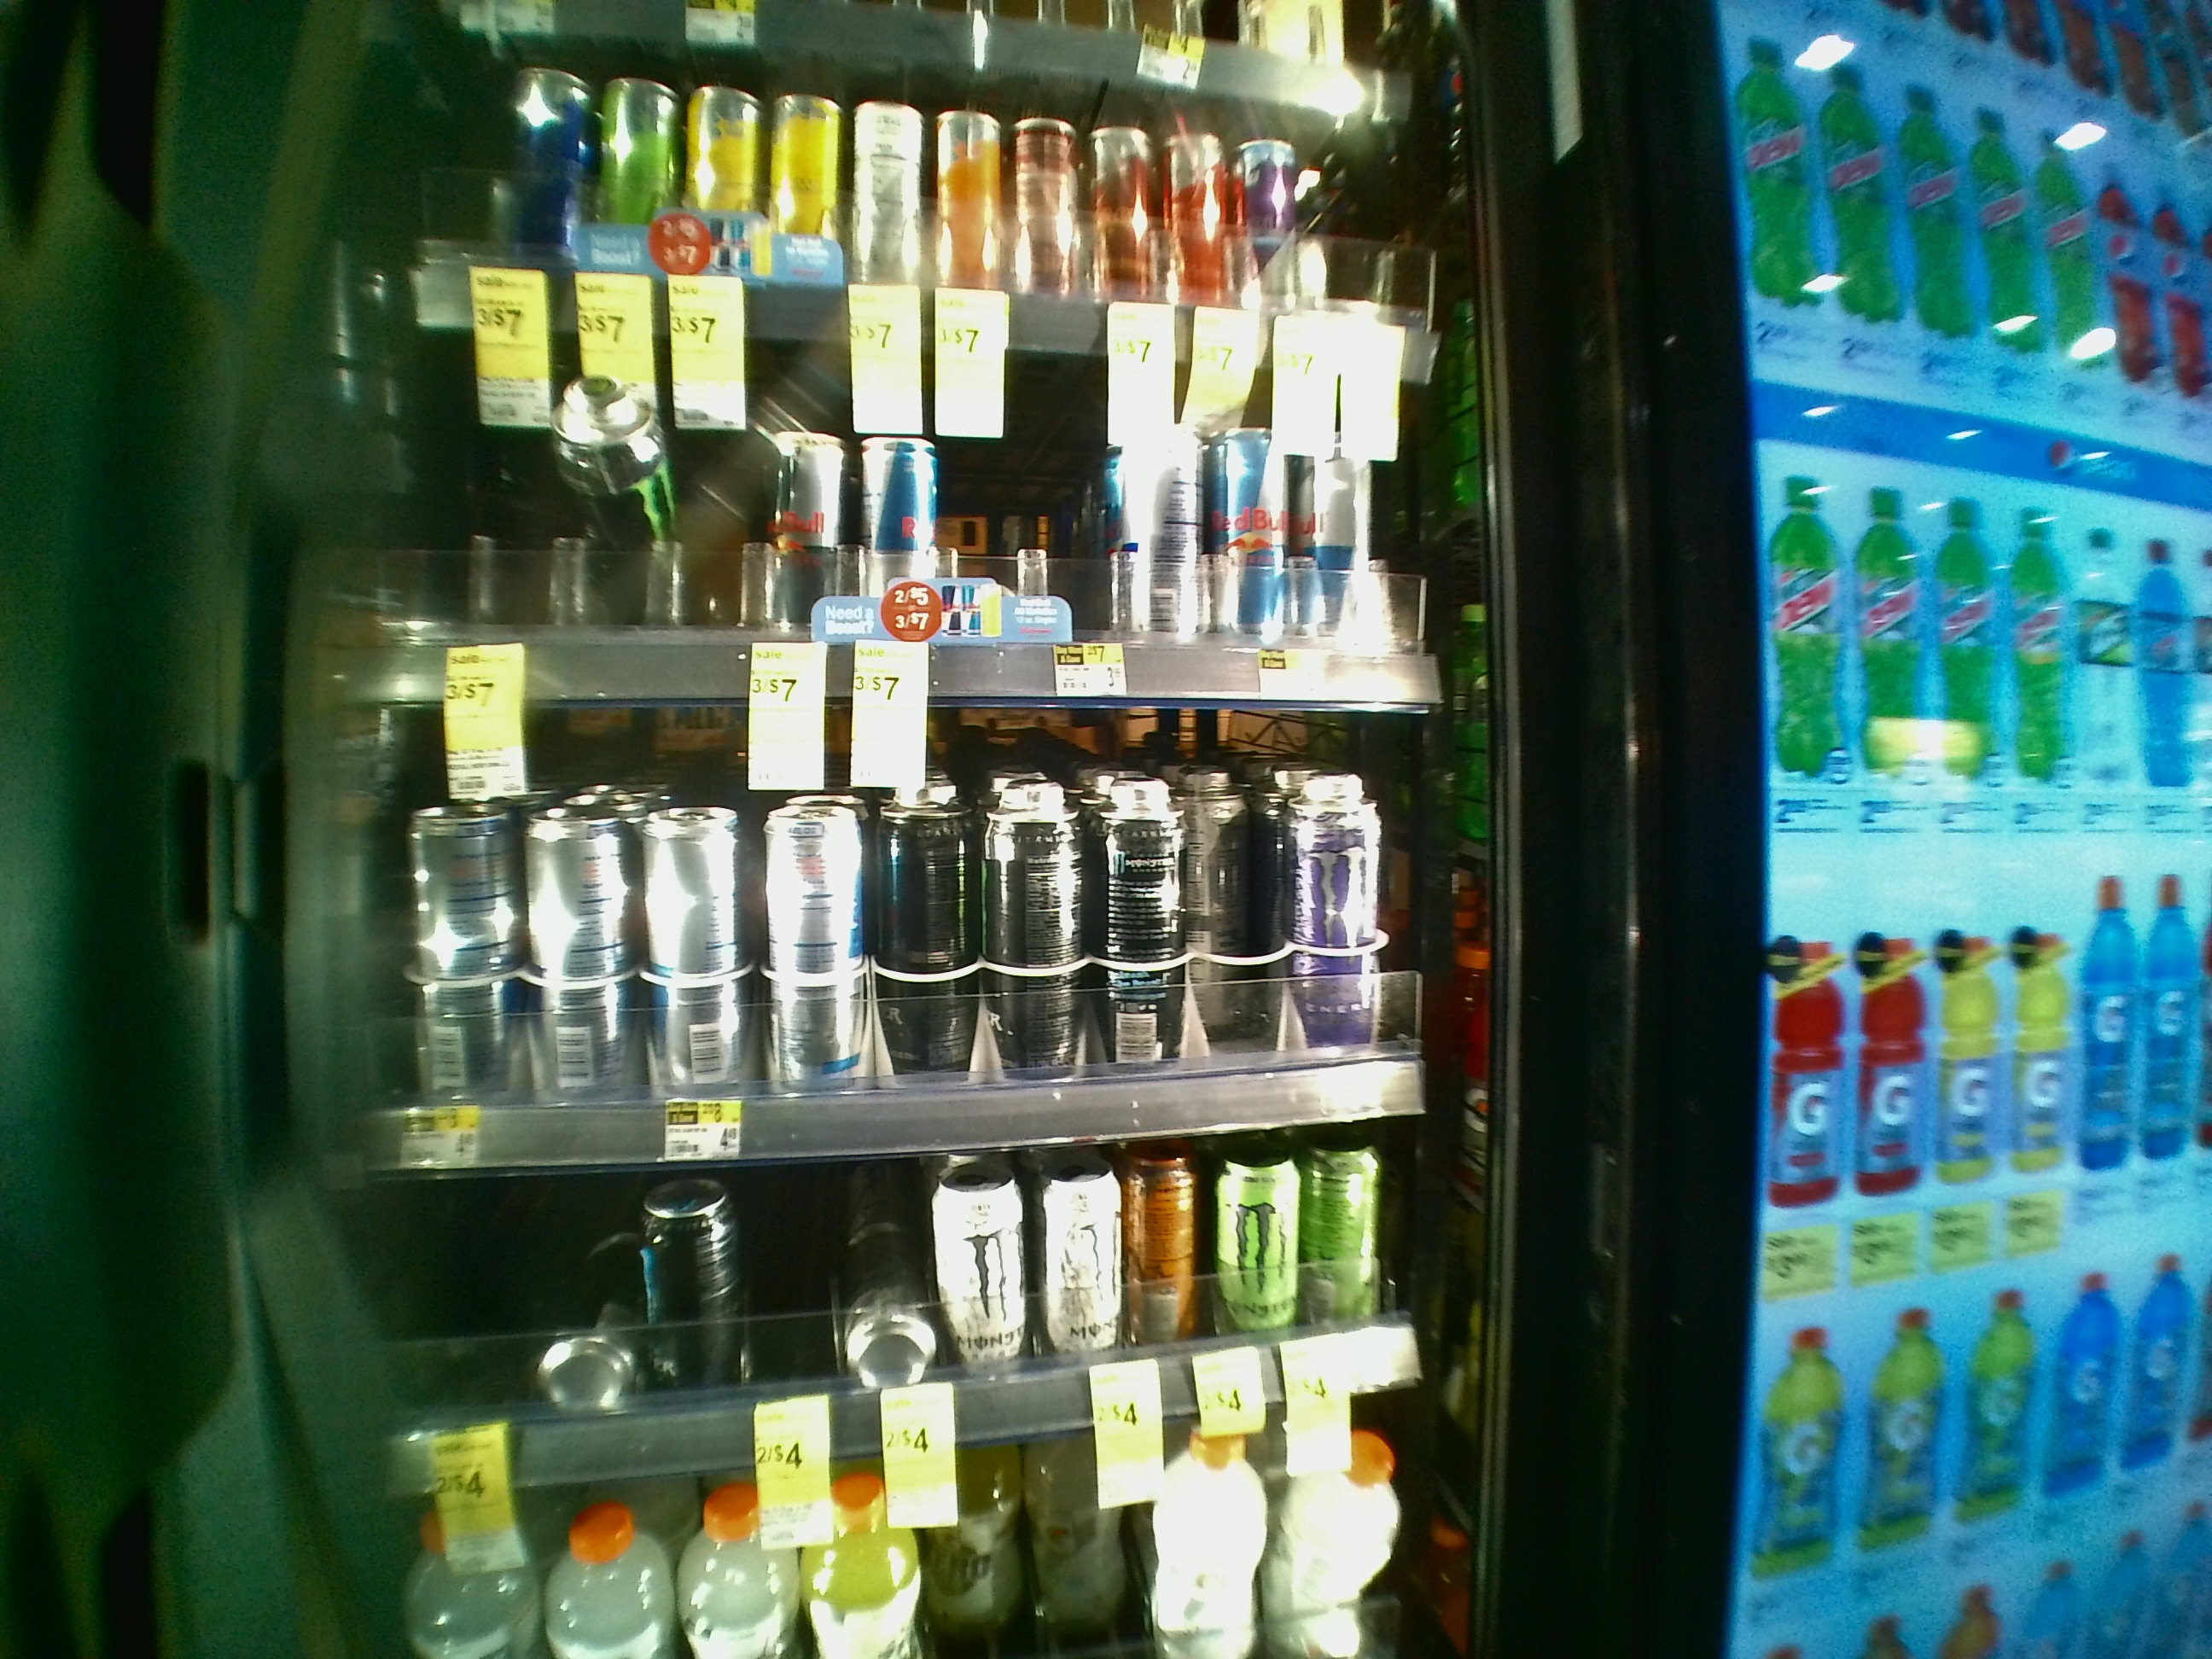shelf: (300, 702, 1510, 1161)
